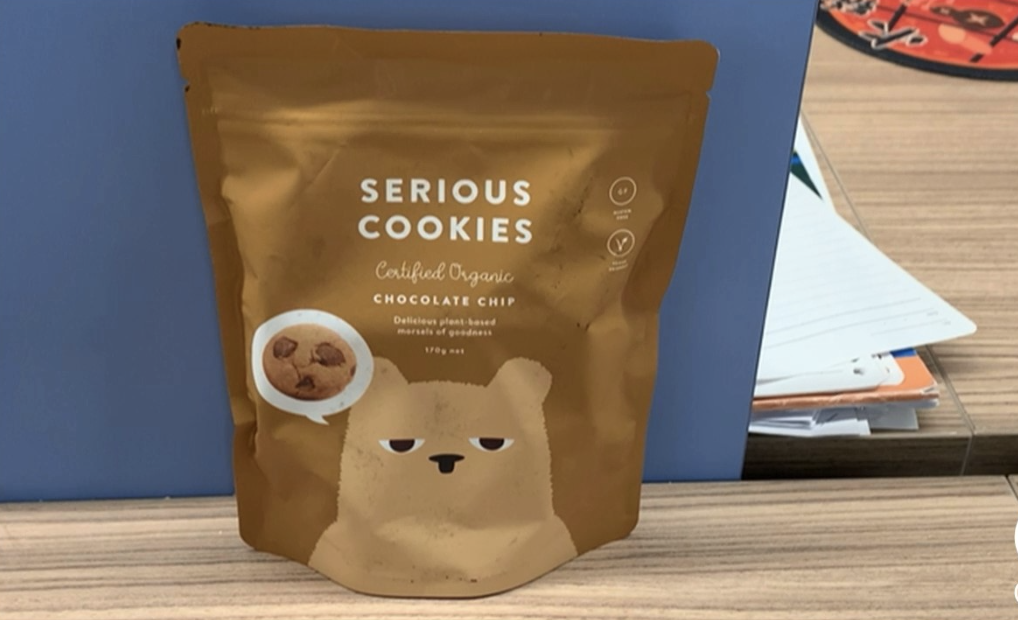cookies_100g-199g: (249, 172, 641, 517)
